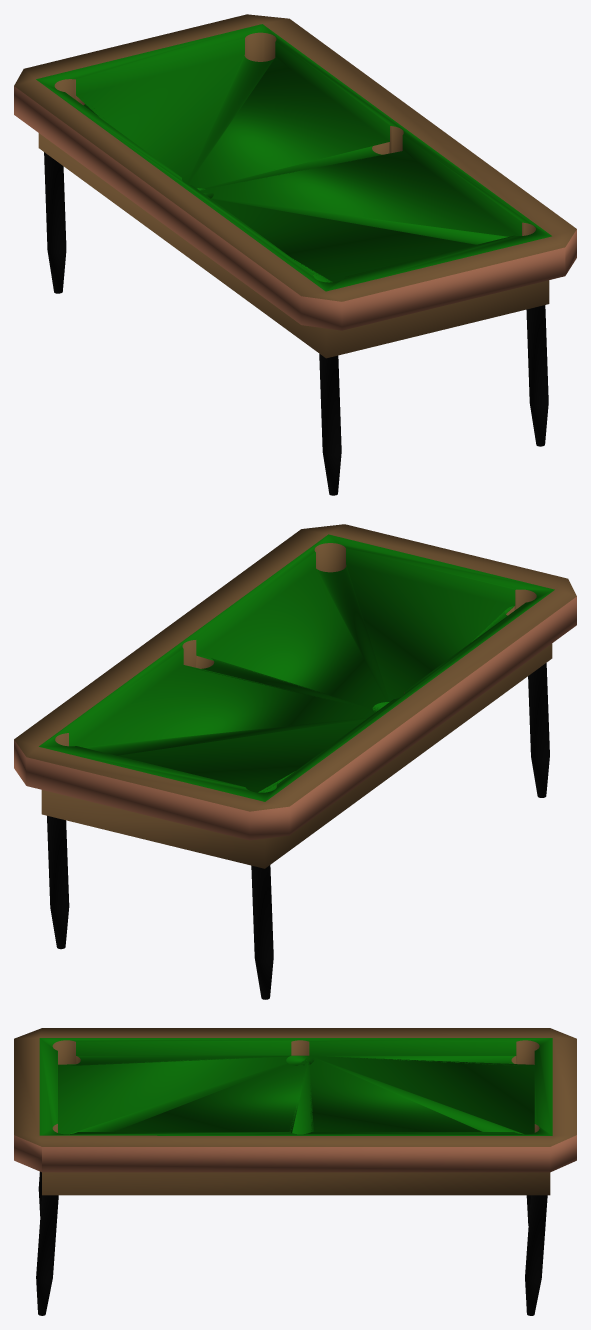
File: Billiardstable.fbx
The picture shows the model from 3 angles, top to bottom: view 1: azimuth 30°, elevation 25°; view 2: azimuth 150°, elevation 25°; view 3: azimuth 270°, elevation 25°; orthographic projection. The views are drawn at different scales.
Parts seen in each view (by area): view 1: table; view 2: table; view 3: table.
Boxes of the visible parts, <box> form: table: <box>14,14,576,495</box>; table: <box>14,524,576,999</box>; table: <box>14,1028,576,1315</box>.
Size of the model in its own units: 1000 by 718 by 2000.
